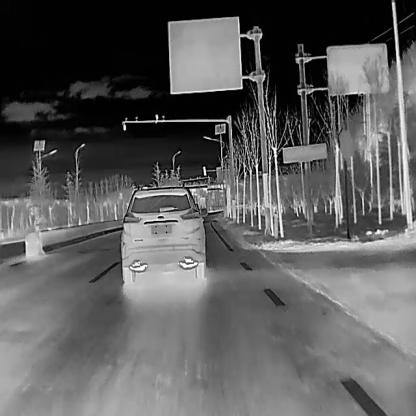car: (120, 184, 207, 283)
